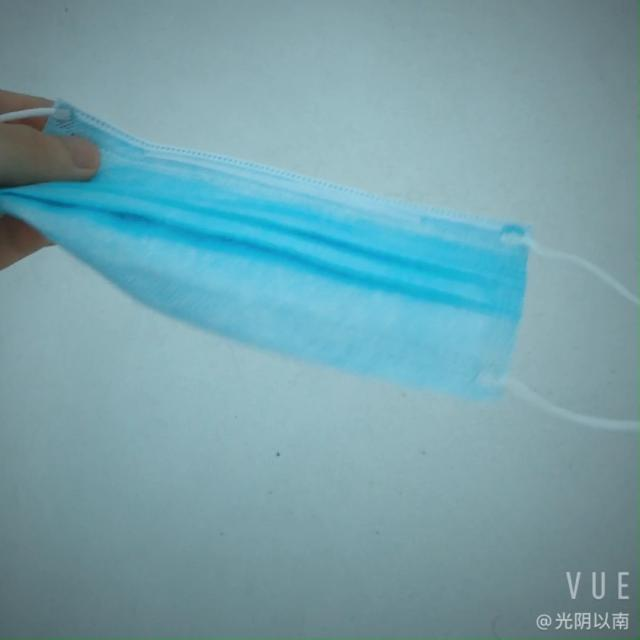non-organic waste: (0, 124, 574, 400)
